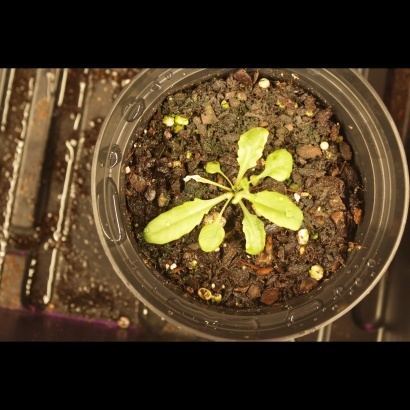leaf: (141, 196, 205, 248), (244, 191, 309, 231), (233, 119, 270, 175), (236, 214, 270, 263), (262, 143, 295, 184), (199, 217, 230, 255), (201, 154, 230, 182)
